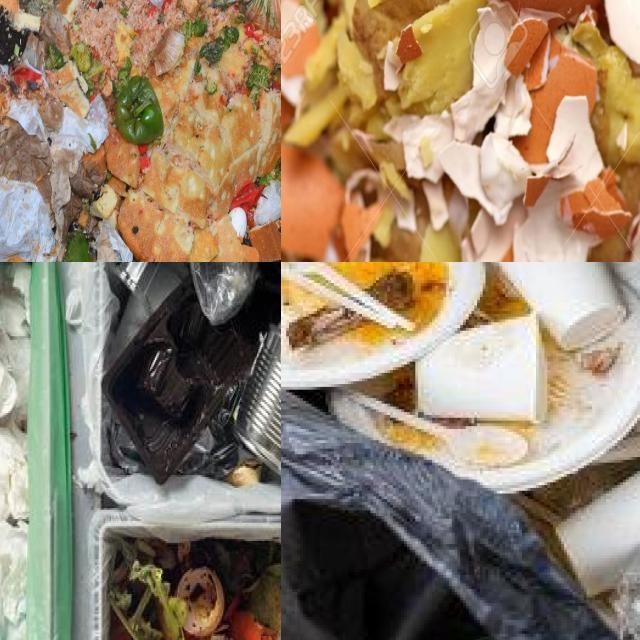Garbage: (281, 262, 640, 640), (281, 0, 640, 262), (107, 536, 281, 640)
Metal: (234, 326, 281, 472)
Plastic: (103, 262, 281, 483)
contaminated_waste: (101, 262, 281, 483), (336, 386, 548, 463), (281, 262, 422, 337), (113, 262, 190, 361)
